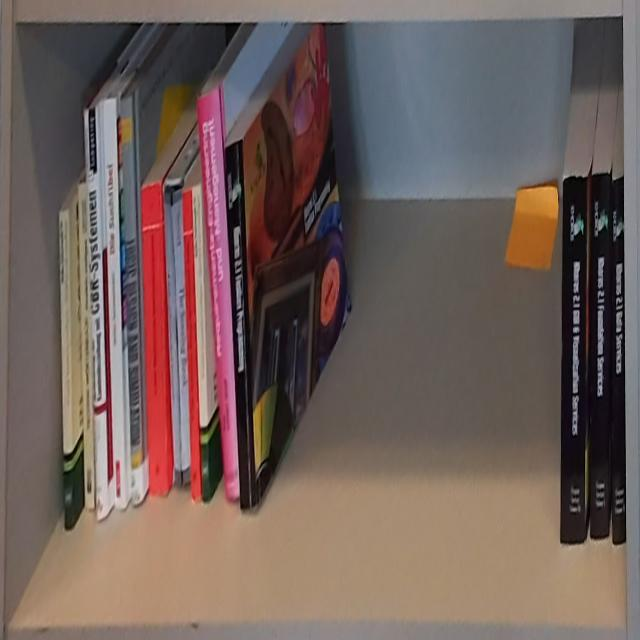Book Spine: (198, 85, 240, 502), (225, 140, 259, 510), (83, 107, 108, 523), (559, 176, 587, 542), (103, 98, 127, 509), (121, 97, 144, 505), (141, 185, 168, 496), (590, 172, 610, 539), (183, 191, 202, 502), (193, 185, 211, 500), (77, 181, 94, 512), (612, 176, 626, 545), (174, 192, 191, 485), (165, 191, 181, 489), (59, 210, 73, 531)
